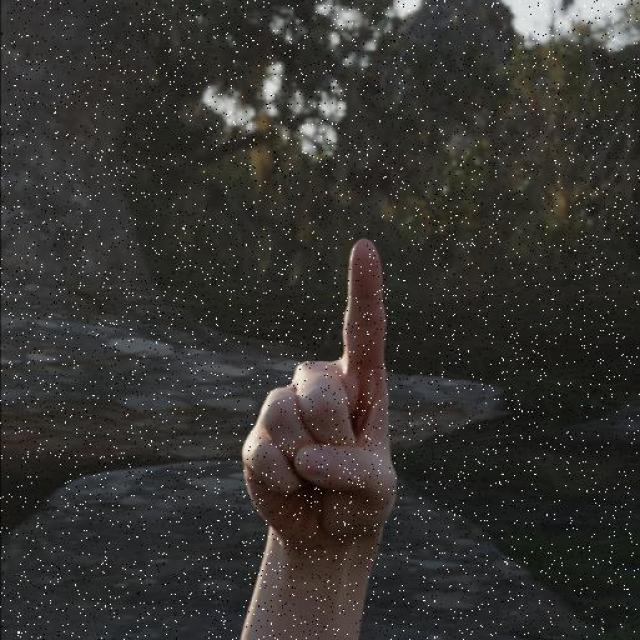Z: (242, 232, 393, 580)
